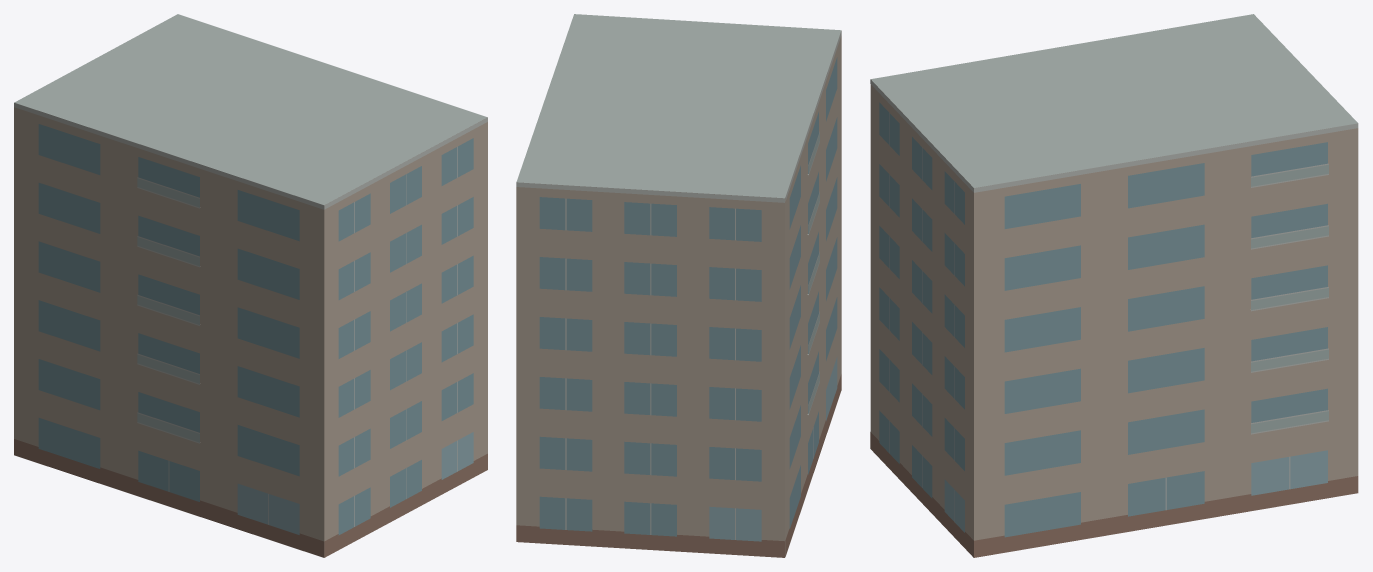
File: survey-upis-32729212.glb
3 renders of one model, left to right at view 1: azimuth 30°, elevation 25°; view 2: azimuth 150°, elevation 25°; view 3: azimuth 270°, elevation 25°, orthographic. The views are drawn at different scales.
Parts seen in each view (by area): view 1: survey-upis-32729212.tmp; view 2: survey-upis-32729212.tmp; view 3: survey-upis-32729212.tmp.
Part boxes in pixels (<box>): survey-upis-32729212.tmp: <box>14,14,487,557</box>; survey-upis-32729212.tmp: <box>516,14,841,557</box>; survey-upis-32729212.tmp: <box>870,14,1358,557</box>.
Size of the model in its own units: 19.2 by 19 by 22.73.
